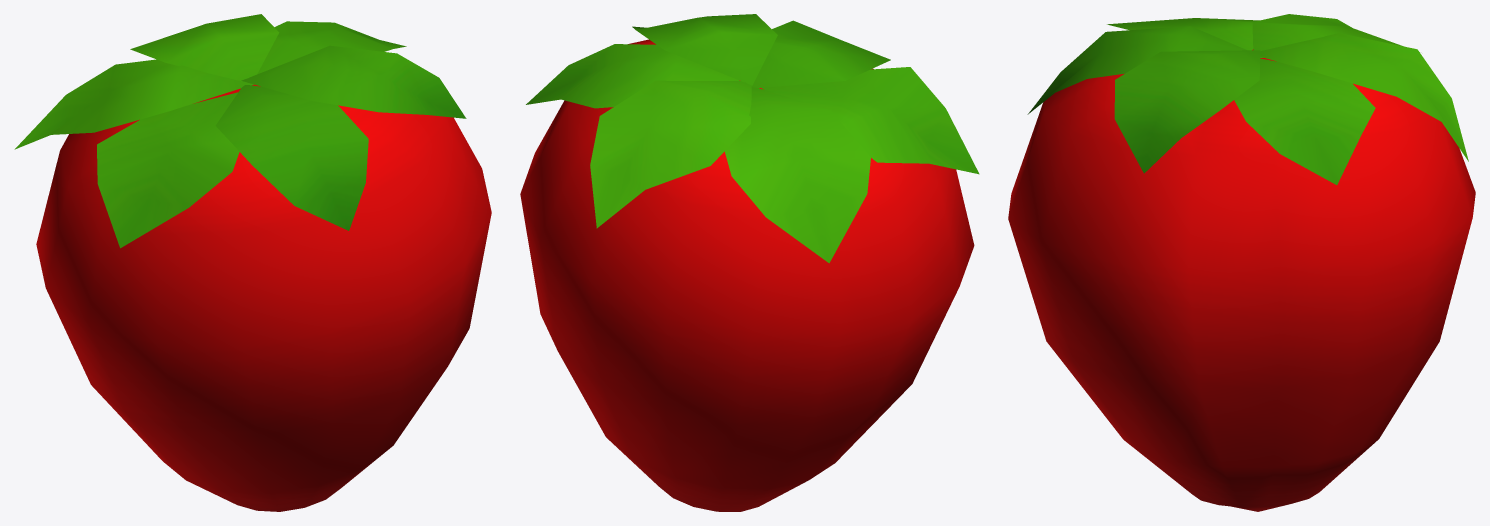
File: strawberry.glb
3 views of the same model, side by side, from view 1: azimuth 30°, elevation 25°; view 2: azimuth 150°, elevation 25°; view 3: azimuth 270°, elevation 25° (orthographic). The views are drawn at different scales.
Visible parts, largest first — view 1: SM_Strawberry2; view 2: SM_Strawberry2; view 3: SM_Strawberry2.
Boxes of the visible parts, x1=… form: SM_Strawberry2: x1=14, y1=14, x2=491, y2=511; SM_Strawberry2: x1=520, y1=14, x2=979, y2=511; SM_Strawberry2: x1=1008, y1=14, x2=1475, y2=511.
Size of the model in its own units: 0.2195 by 0.2418 by 0.2225.
Materials: 1 (1 with a texture image).
